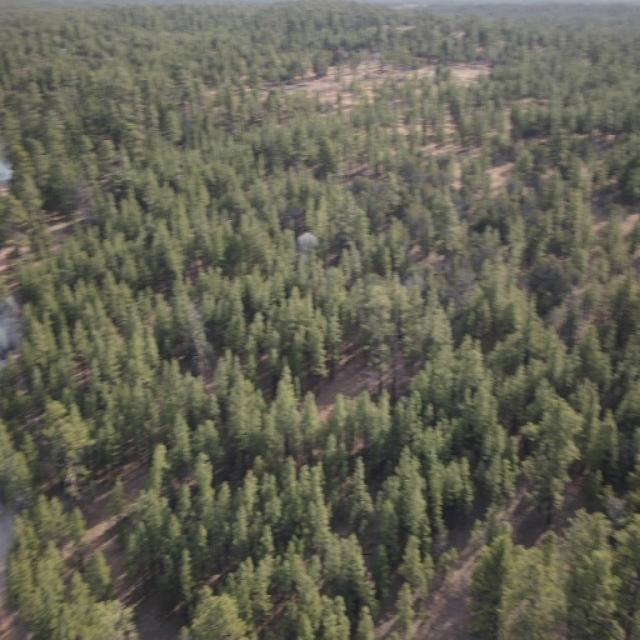smoke: (0, 467, 34, 605), (184, 328, 227, 393), (0, 286, 27, 373), (0, 149, 16, 193), (381, 89, 400, 118), (298, 230, 321, 253)
